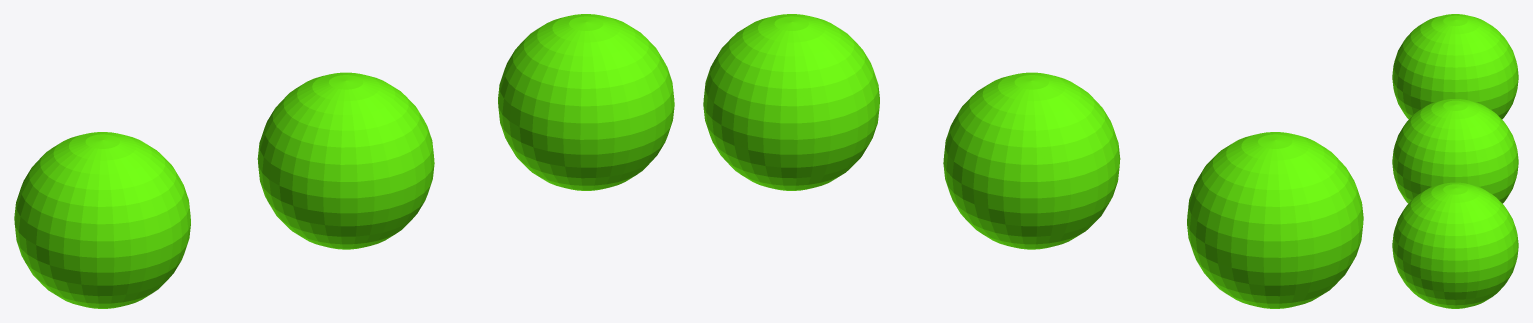
Rendered from sfere3V.obj.
3 views of the same model, side by side, from view 1: azimuth 30°, elevation 25°; view 2: azimuth 150°, elevation 25°; view 3: azimuth 270°, elevation 25° (orthographic). The views are drawn at different scales.
Visible parts, largest first — view 1: Sfera.001, Sfera, Sfera.002; view 2: Sfera.001, Sfera, Sfera.002; view 3: Sfera, Sfera.002, Sfera.001.
Part boxes in pixels (<box>): Sfera.001: <box>257,72,434,249</box>; Sfera: <box>498,14,674,190</box>; Sfera.002: <box>14,132,190,308</box>; Sfera.001: <box>943,72,1120,249</box>; Sfera: <box>703,14,879,190</box>; Sfera.002: <box>1187,132,1363,308</box>; Sfera: <box>1392,182,1518,308</box>; Sfera.002: <box>1392,14,1518,119</box>; Sfera.001: <box>1392,99,1518,203</box>.
Size of the model in its own units: 2.07 by 0.5 by 0.5.
1 material, 1 textured.
